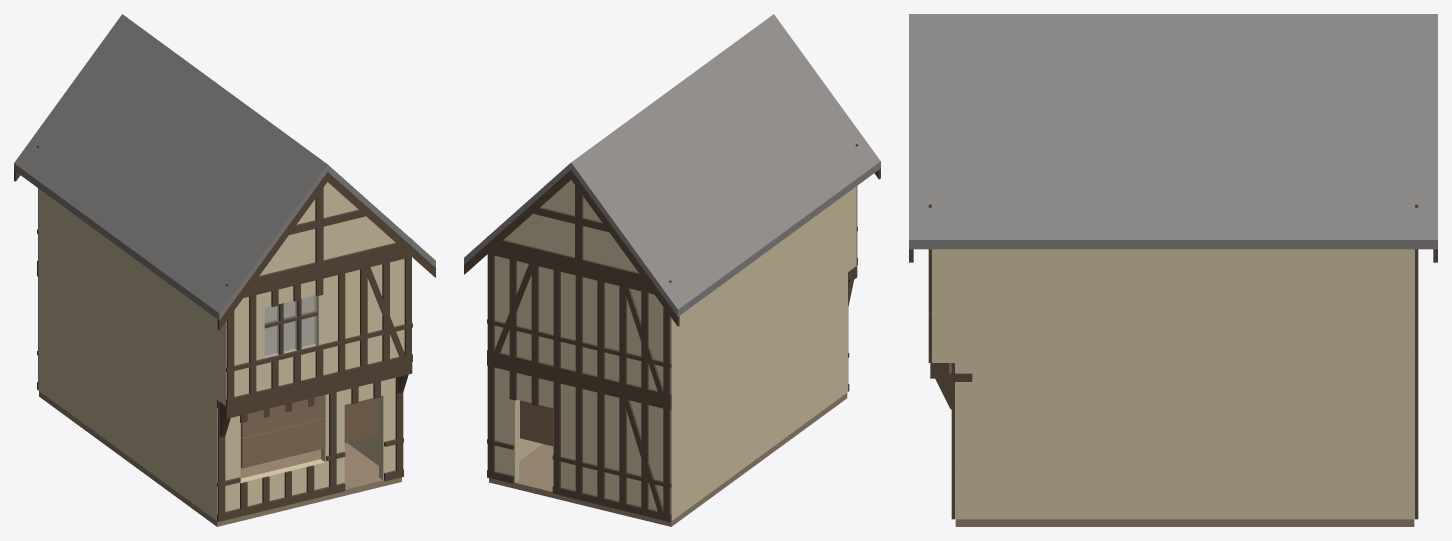
The model's file is artisan-b.glb.
3 views of the same model, side by side, from view 1: azimuth 30°, elevation 25°; view 2: azimuth 150°, elevation 25°; view 3: azimuth 270°, elevation 25° (orthographic). The views are drawn at different scales.
Visible parts, largest first — view 1: render, roof, timber, floor, artisan-b-shutter-02 leaf, glass, artisan-b-shutter-01 leaf, artisan-b-door-01 leaf; view 2: render, roof, timber, floor, artisan-b-door-02 leaf; view 3: render, roof, floor, timber.
Part boxes in pixels (x1=…): render: x1=38, y1=182, x2=404, y2=520; roof: x1=14, y1=14, x2=435, y2=320; timber: x1=14, y1=145, x2=435, y2=521; floor: x1=39, y1=296, x2=401, y2=526; artisan-b-shutter-02 leaf: x1=241, y1=418, x2=325, y2=468; glass: x1=264, y1=295, x2=316, y2=357; artisan-b-shutter-01 leaf: x1=241, y1=395, x2=325, y2=438; artisan-b-door-01 leaf: x1=344, y1=398, x2=378, y2=443; render: x1=495, y1=180, x2=856, y2=520; roof: x1=464, y1=14, x2=880, y2=316; timber: x1=464, y1=144, x2=880, y2=521; floor: x1=489, y1=271, x2=849, y2=526; artisan-b-door-02 leaf: x1=520, y1=400, x2=553, y2=446; render: x1=932, y1=249, x2=1414, y2=519; roof: x1=909, y1=14, x2=1437, y2=249; floor: x1=949, y1=363, x2=1414, y2=526; timber: x1=909, y1=204, x2=1437, y2=519.
Bounding box in the file's own units: 5.6 × 8.73 × 9.2.
